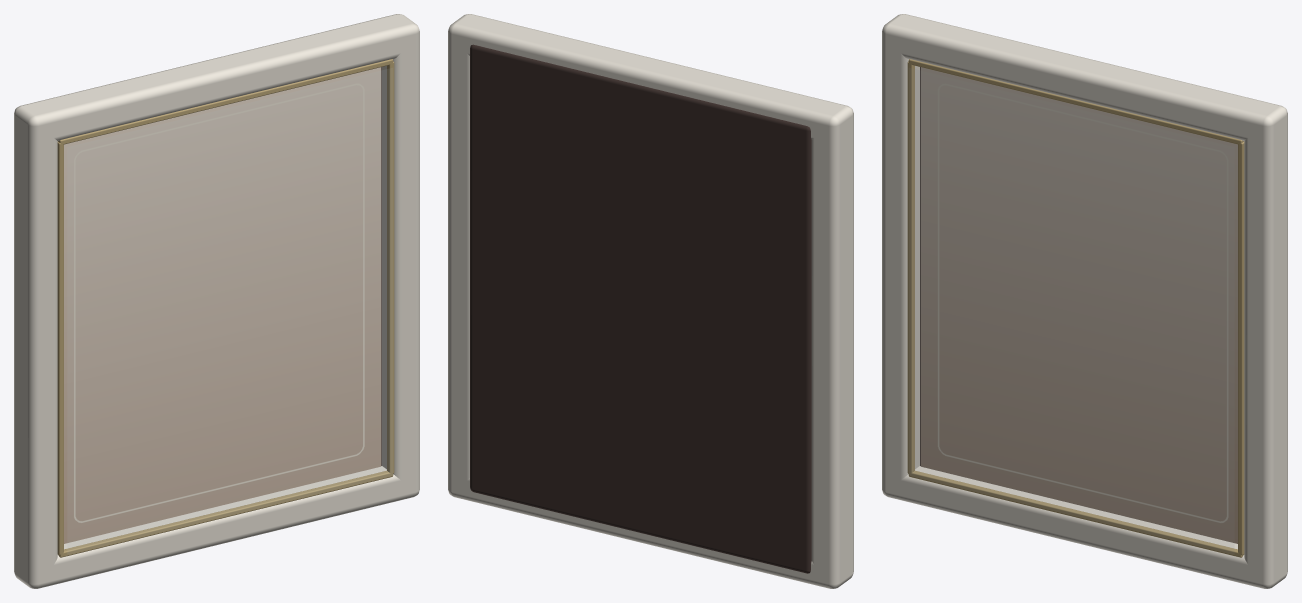
File: portrait-frame.glb
3 renders of one model, left to right at view 1: azimuth 30°, elevation 25°; view 2: azimuth 150°, elevation 25°; view 3: azimuth 330°, elevation 25°, orthographic.
Visible parts, largest first — view 1: Portrait_Image, Frame_Left, Frame_Top, Frame_Right, Frame_Bottom, Lip_R, Lip_L, Lip_B, Lip_T; view 2: Backing, Frame_Left, Frame_Top, Frame_Right, Frame_Bottom; view 3: Portrait_Image, Frame_Right, Frame_Top, Frame_Left, Frame_Bottom, Lip_L, Lip_R, Lip_B, Lip_T.
Boxes of the visible parts, x1=… form: Portrait_Image: x1=64, y1=67, x2=381, y2=543; Frame_Left: x1=14, y1=102, x2=57, y2=588; Frame_Top: x1=35, y1=17, x2=401, y2=140; Frame_Right: x1=382, y1=14, x2=419, y2=500; Frame_Bottom: x1=52, y1=466, x2=401, y2=585; Lip_R: x1=387, y1=61, x2=394, y2=473; Lip_L: x1=57, y1=141, x2=63, y2=555; Lip_B: x1=58, y1=470, x2=393, y2=557; Lip_T: x1=58, y1=59, x2=393, y2=144; Backing: x1=470, y1=44, x2=811, y2=573; Frame_Left: x1=811, y1=102, x2=853, y2=588; Frame_Top: x1=466, y1=17, x2=832, y2=139; Frame_Right: x1=448, y1=14, x2=485, y2=500; Frame_Bottom: x1=466, y1=478, x2=815, y2=585; Portrait_Image: x1=920, y1=67, x2=1237, y2=543; Frame_Right: x1=1244, y1=102, x2=1287, y2=588; Frame_Top: x1=900, y1=17, x2=1266, y2=140; Frame_Left: x1=882, y1=14, x2=919, y2=500; Frame_Bottom: x1=900, y1=466, x2=1249, y2=585; Lip_L: x1=907, y1=61, x2=914, y2=473; Lip_R: x1=1238, y1=141, x2=1244, y2=555; Lip_B: x1=908, y1=470, x2=1243, y2=557; Lip_T: x1=908, y1=59, x2=1243, y2=144.
Size of what is drawn, in the model's own units: 2.7 by 3.12 by 0.3.
Materials: 5 (1 with a texture image).
